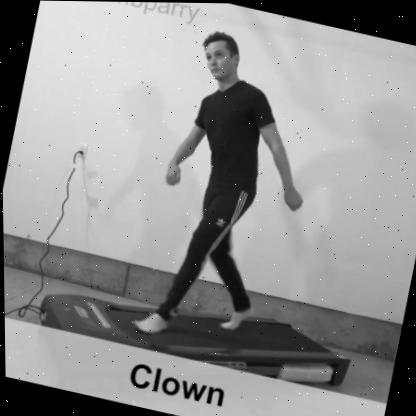person: (124, 21, 320, 343)
